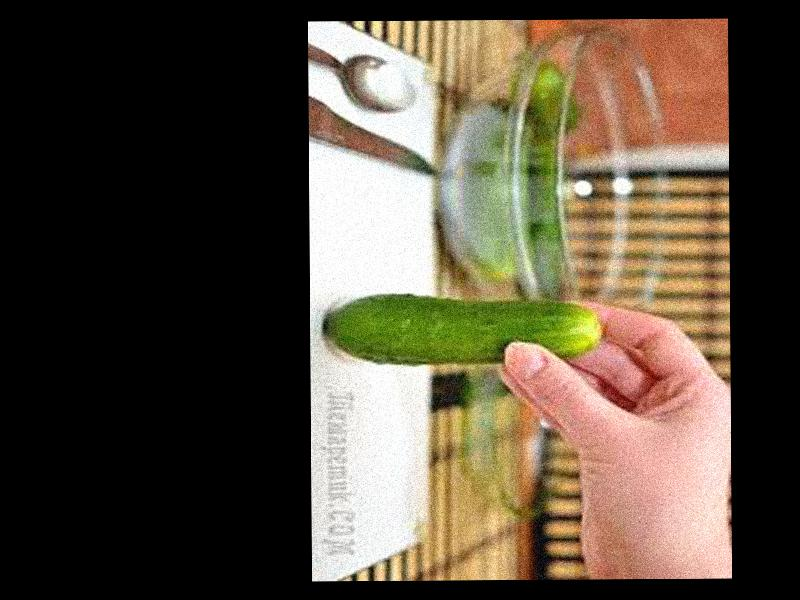Cucumber: (326, 292, 601, 365)
